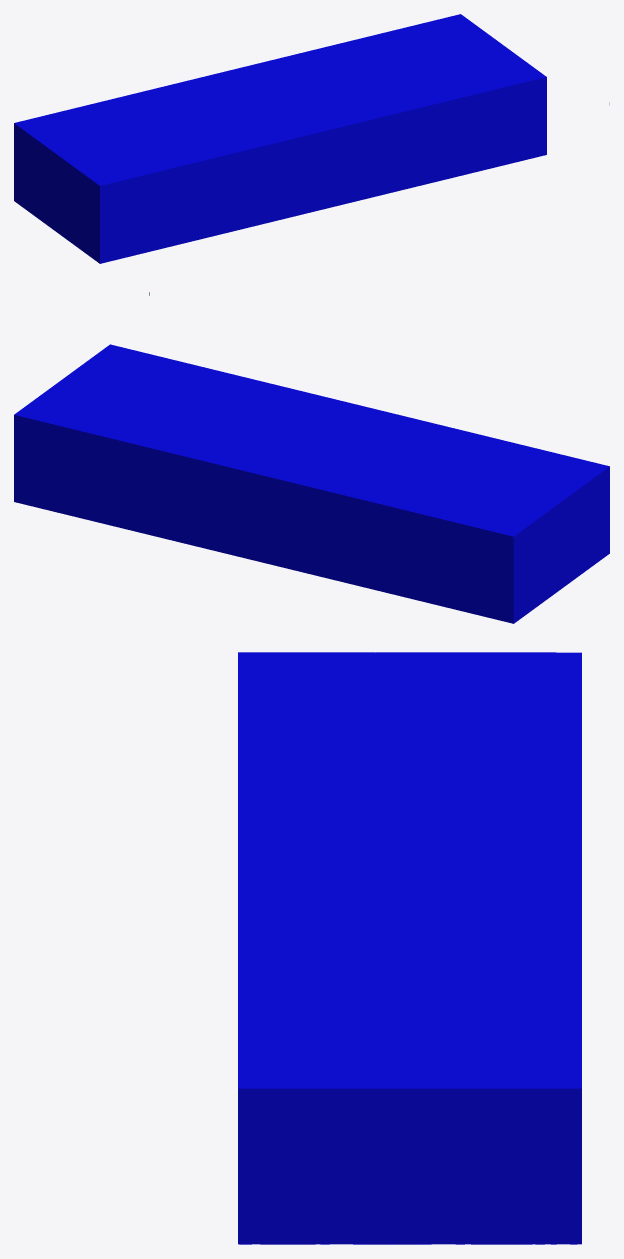
The picture shows the model from 3 angles, top to bottom: view 1: azimuth 30°, elevation 25°; view 2: azimuth 150°, elevation 25°; view 3: azimuth 270°, elevation 25°; orthographic projection. The views are drawn at different scales.
Visible parts, largest first — view 1: Shape_IndexedFaceSet.013; view 2: Shape_IndexedFaceSet.013; view 3: Shape_IndexedFaceSet.013.
Boxes of the visible parts, bbox=[...] form: Shape_IndexedFaceSet.013: bbox=[14, 14, 546, 263]; Shape_IndexedFaceSet.013: bbox=[14, 344, 609, 623]; Shape_IndexedFaceSet.013: bbox=[238, 652, 581, 1244].
Bounding box in the file's own units: 310 × 54.81 × 157.
